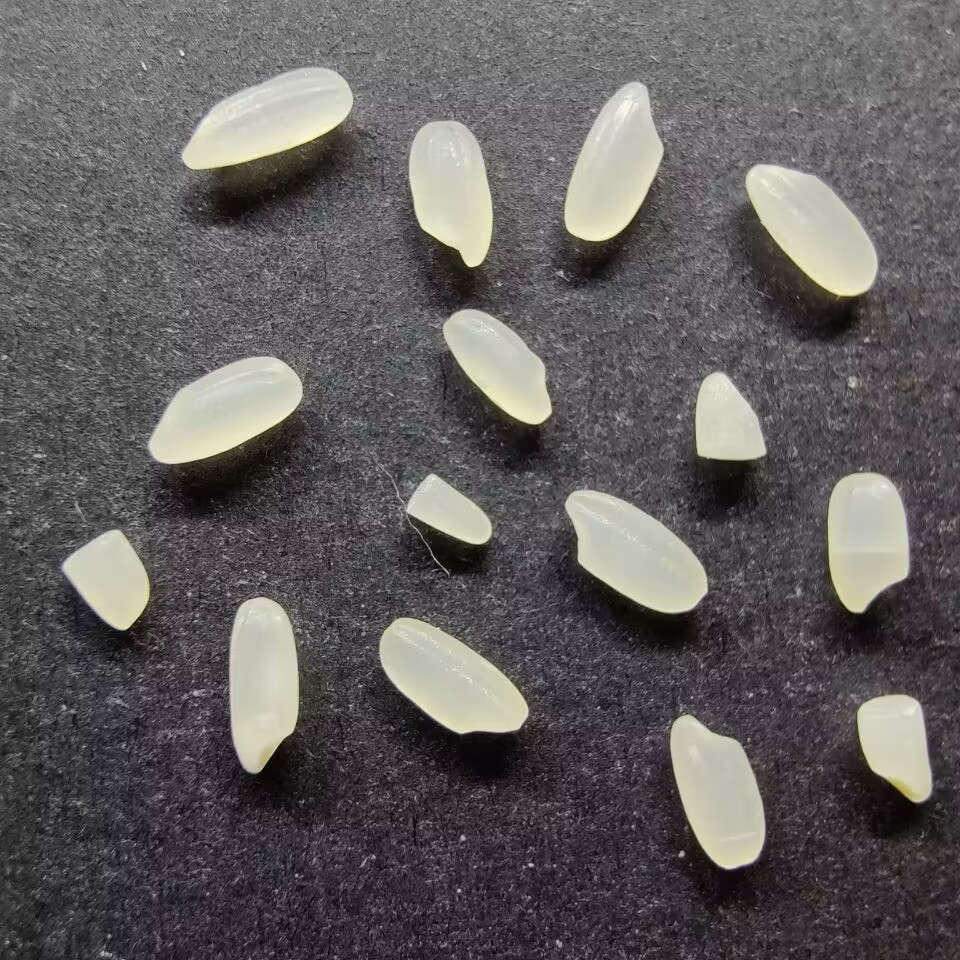broken: (59, 527, 152, 632), (856, 692, 934, 804), (402, 469, 495, 548), (693, 372, 766, 463)
rice: (376, 614, 530, 737), (180, 65, 354, 173), (562, 489, 710, 615), (745, 161, 879, 297), (147, 352, 303, 466), (562, 78, 665, 243), (669, 712, 767, 870), (442, 308, 554, 427), (226, 596, 300, 775), (408, 118, 494, 267), (827, 469, 911, 616)
